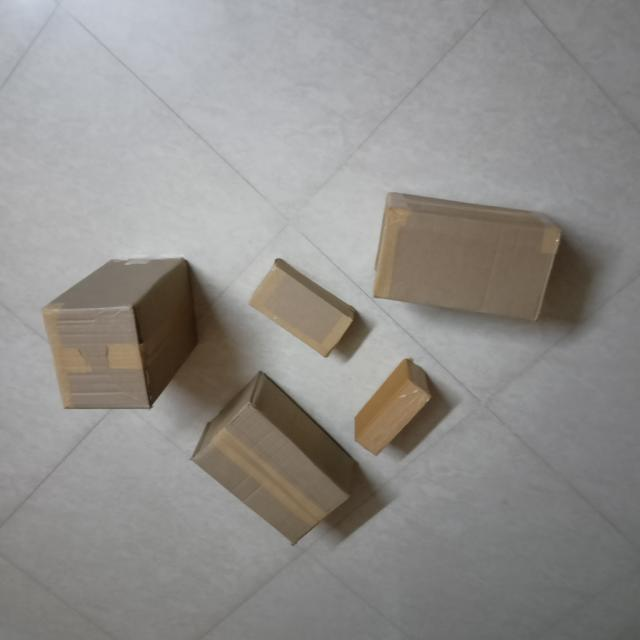box: (192, 406, 355, 553), (372, 208, 568, 328), (46, 310, 149, 413), (247, 267, 351, 358), (353, 384, 435, 458)
